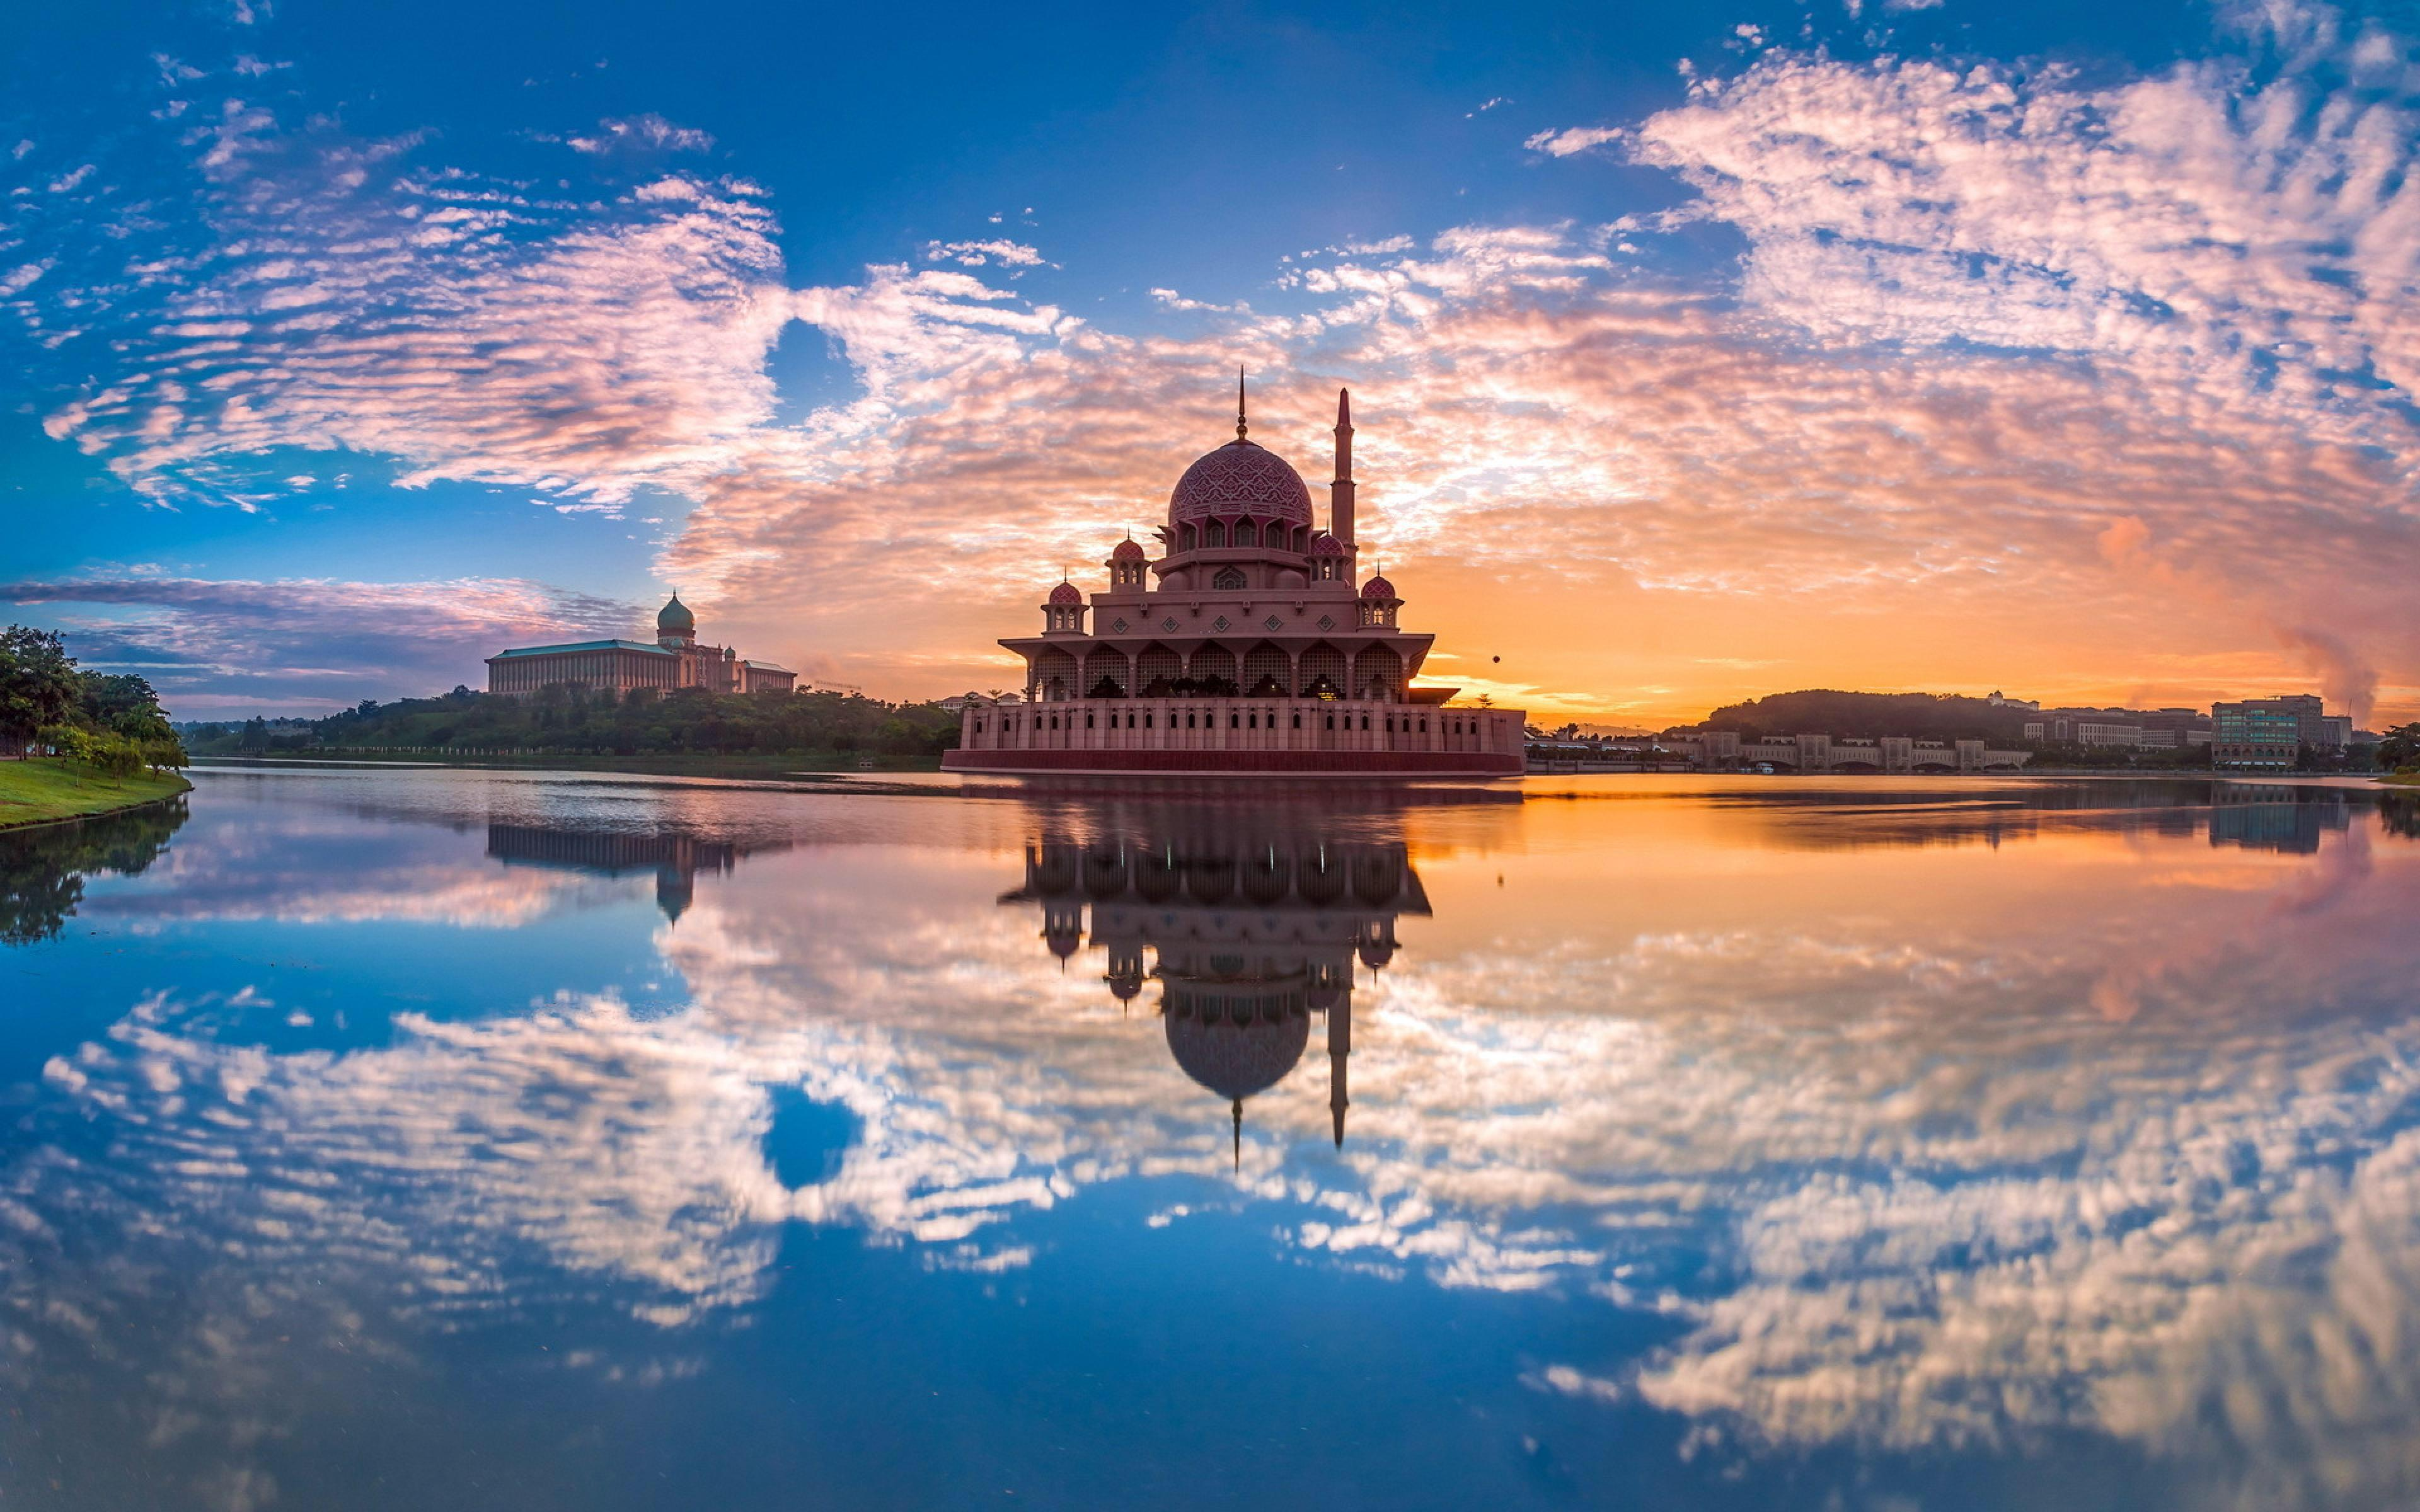Mosque: (932, 369, 1511, 763)
